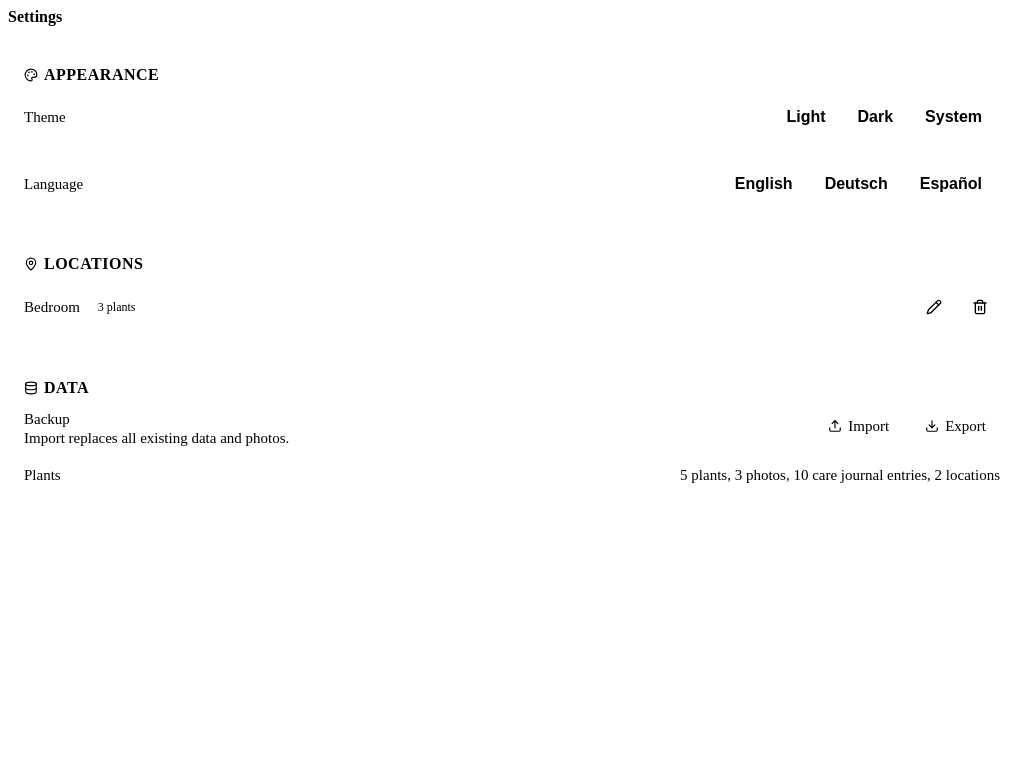
Test case: settings delete location confirmation › shows confirmation dialog with location name when location has plants
The width and height of the screenshot is (1024, 768).
Click the button with class "btn-danger" at (980, 307), box x1=960 y1=287 x2=1000 y2=327
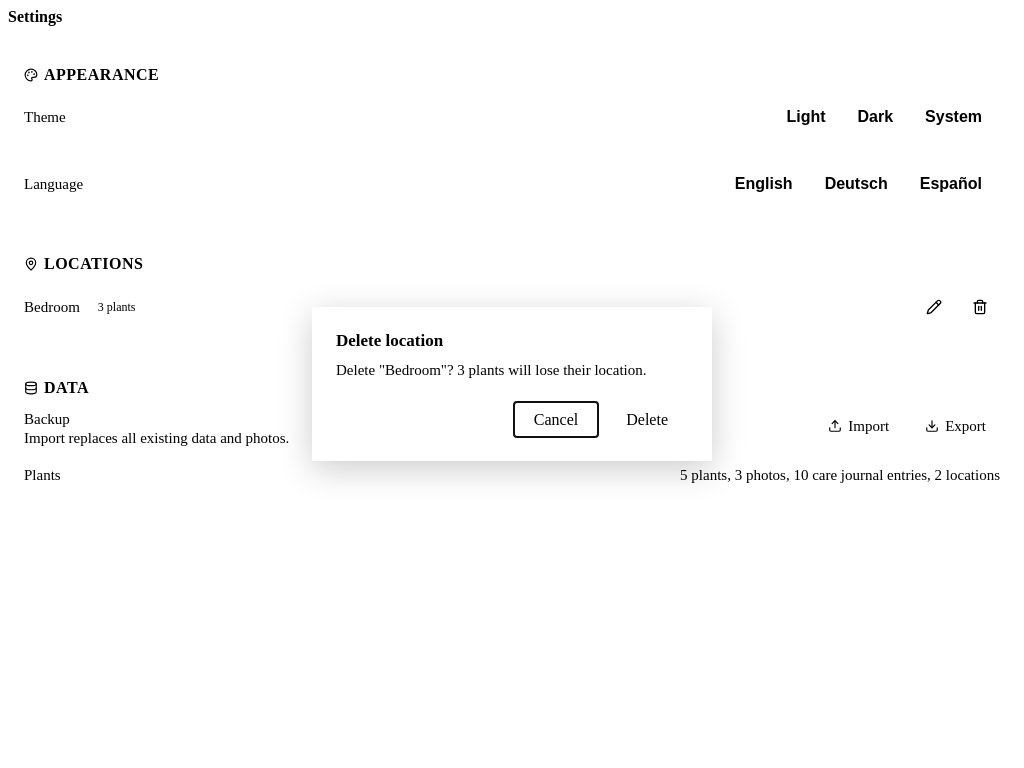
Check: the text "Delete \"Bedroom\"? 3 plants will lose their location." is shown, box x1=336 y1=359 x2=688 y2=382
